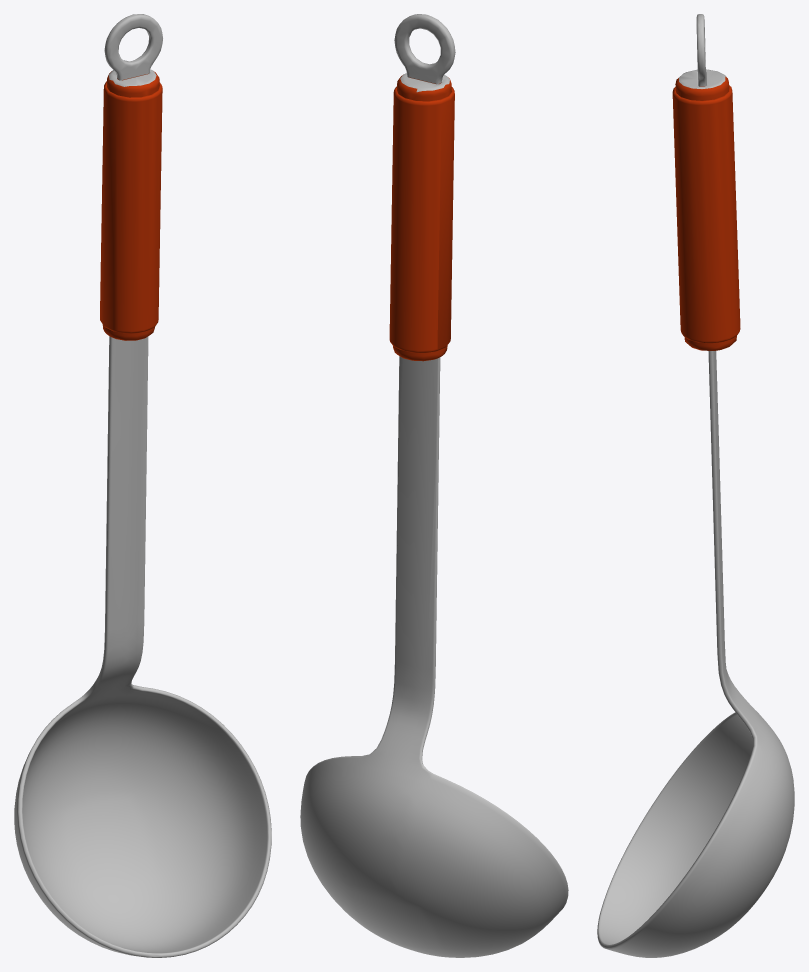
File: Tool_Ladle.fbx
3 views of the same model, side by side, from view 1: azimuth 30°, elevation 25°; view 2: azimuth 150°, elevation 25°; view 3: azimuth 270°, elevation 25° (orthographic). The views are drawn at different scales.
Visible parts, largest first — view 1: Tool_Common_Ladle; view 2: Tool_Common_Ladle; view 3: Tool_Common_Ladle.
Boxes of the visible parts, box(x1,y1,x2,y2) form: Tool_Common_Ladle: box(14, 14, 271, 957); Tool_Common_Ladle: box(300, 14, 568, 957); Tool_Common_Ladle: box(597, 14, 794, 957).
Bounding box in the file's own units: 13.92 × 50.39 × 9.72.
